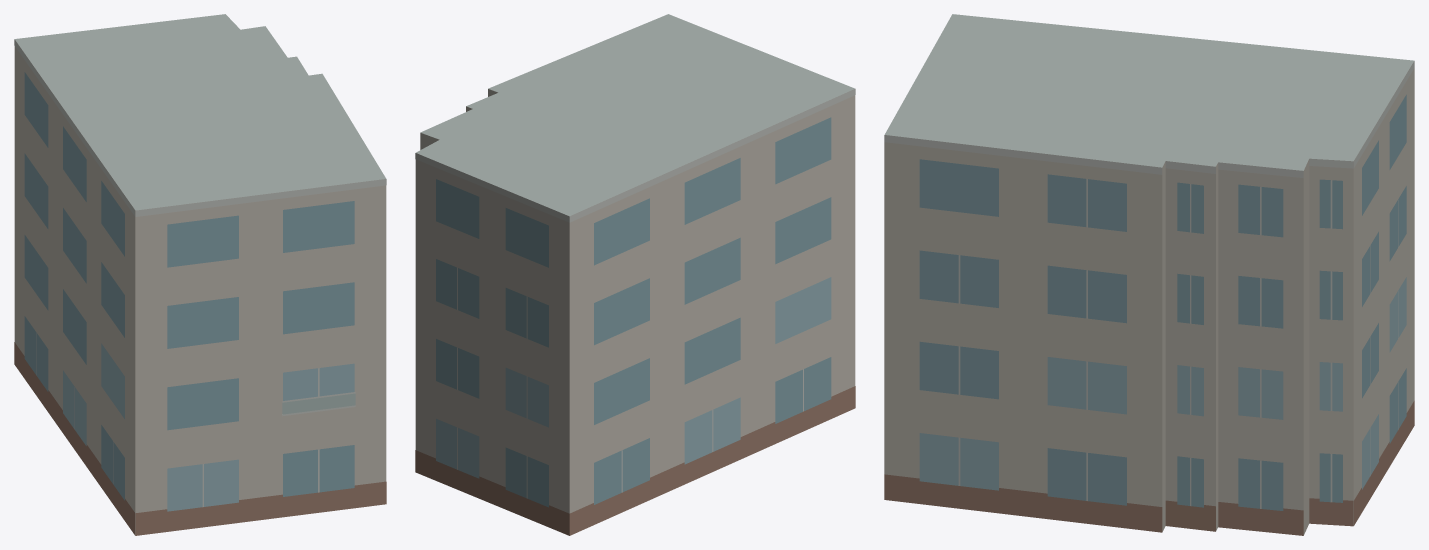
Rendered from survey-upis-32655816.glb.
3 renders of one model, left to right at view 1: azimuth 30°, elevation 25°; view 2: azimuth 150°, elevation 25°; view 3: azimuth 270°, elevation 25°, orthographic. The views are drawn at different scales.
Parts seen in each view (by area): view 1: survey-upis-32655816.tmp; view 2: survey-upis-32655816.tmp; view 3: survey-upis-32655816.tmp.
Part boxes in pixels (<box>): survey-upis-32655816.tmp: <box>14,14,386,535</box>; survey-upis-32655816.tmp: <box>415,14,855,535</box>; survey-upis-32655816.tmp: <box>884,14,1414,535</box>.
Size of the model in its own units: 11.26 by 12.2 by 16.07.
